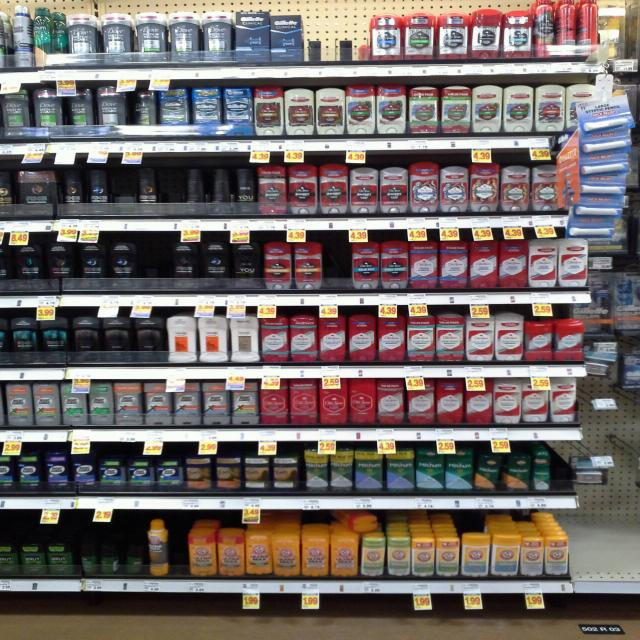empty: (304, 10, 375, 69), (129, 229, 182, 283), (319, 233, 358, 298), (166, 511, 194, 586), (156, 164, 190, 214), (549, 440, 573, 498)
